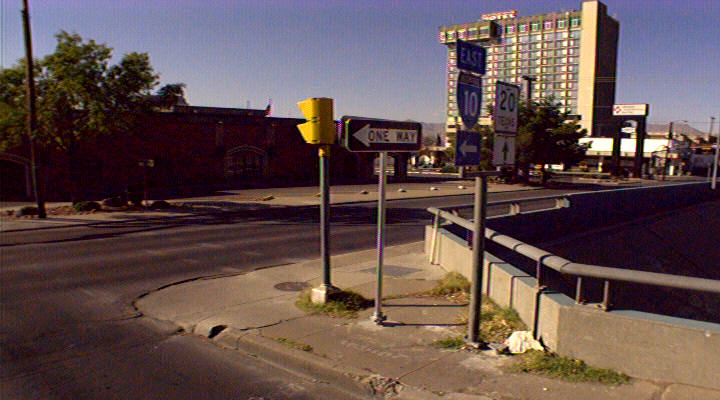Ramp: (128, 266, 287, 329)
